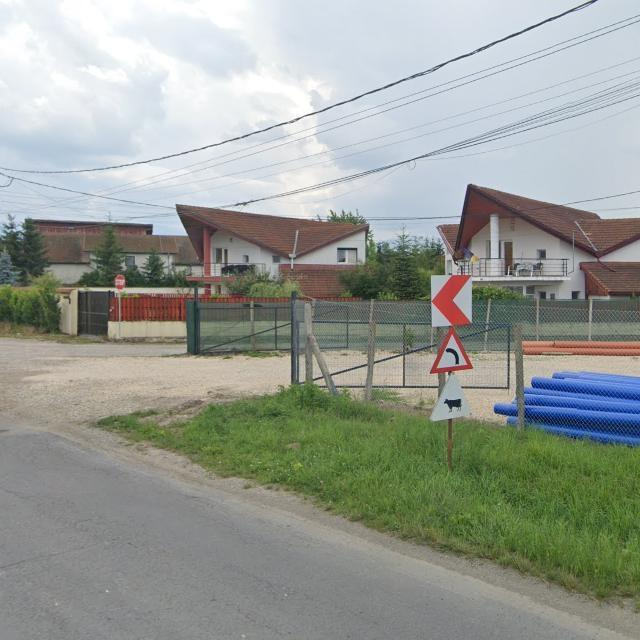prio_stop: (115, 275, 125, 290)
